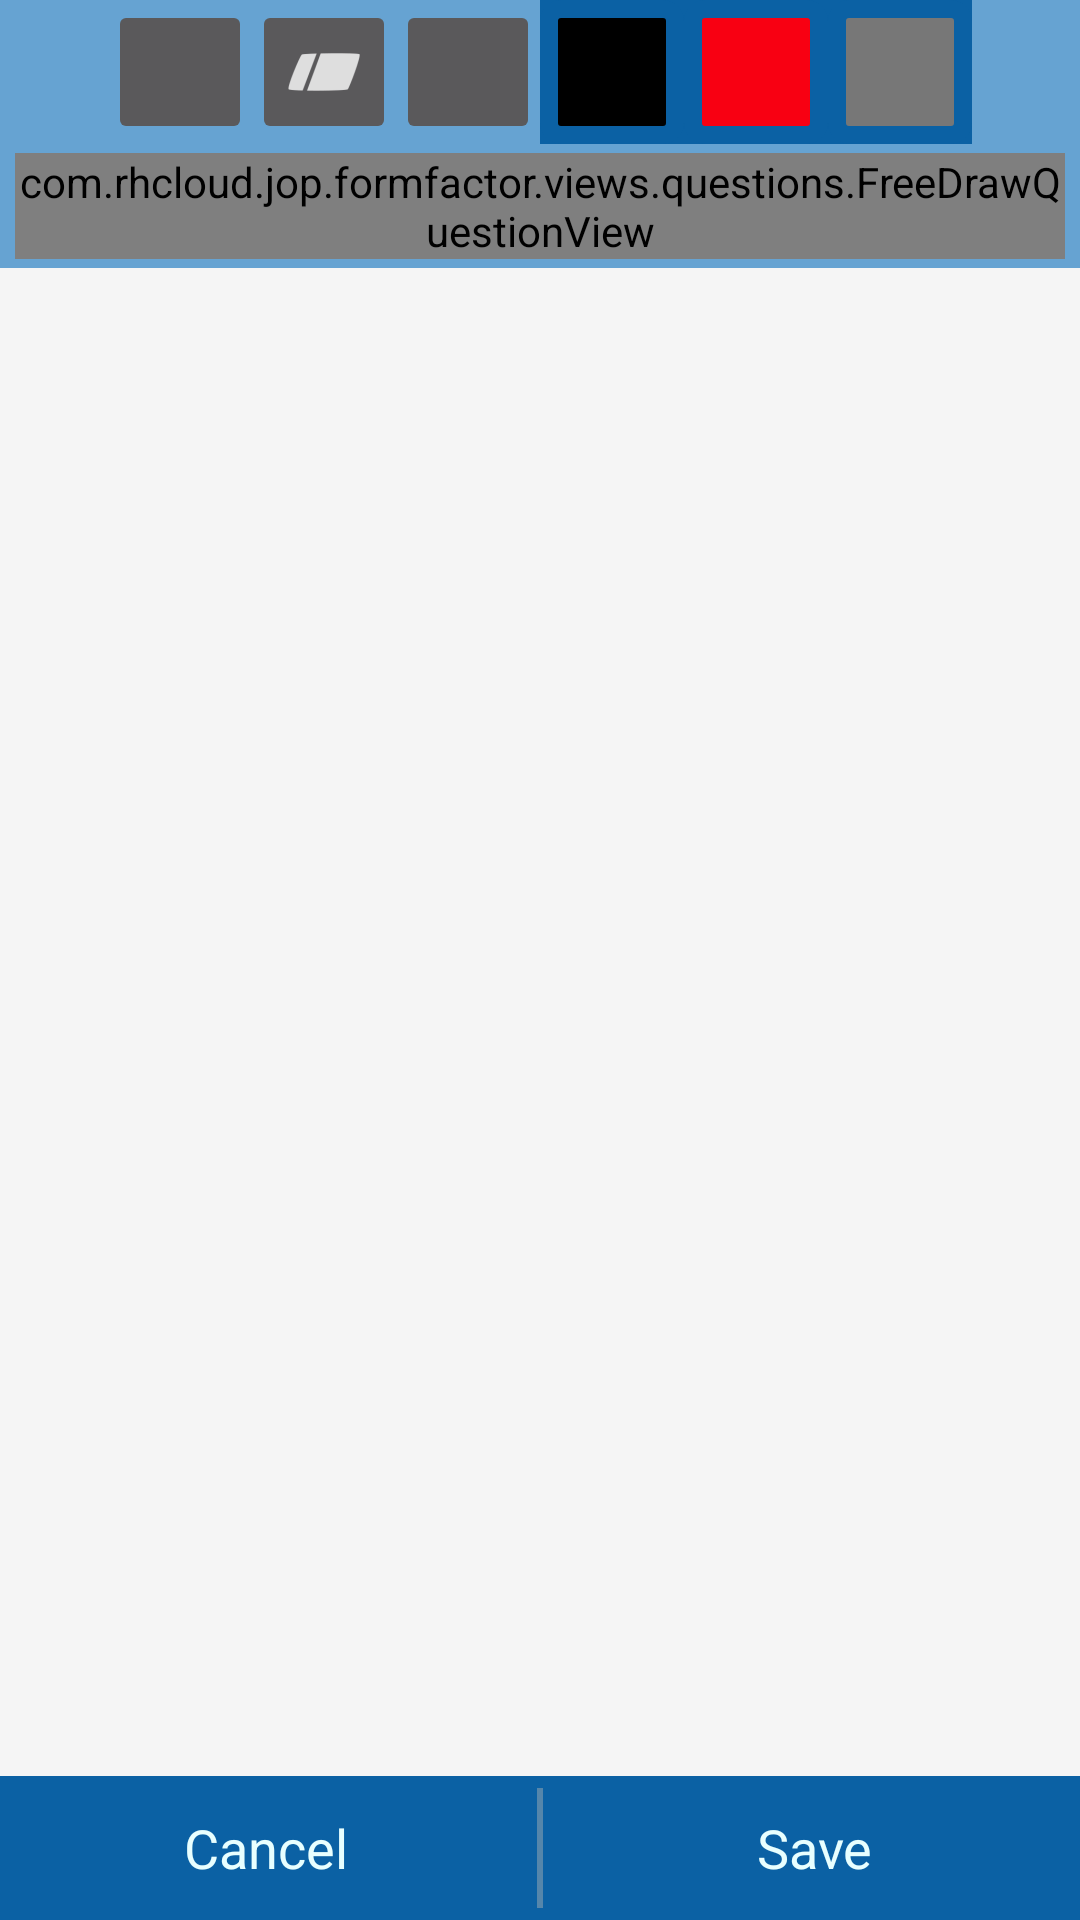

Point at icon controls on the screen. Image size 1080w x 1920h, points as point (x, y).
eraser: point (324, 72)
